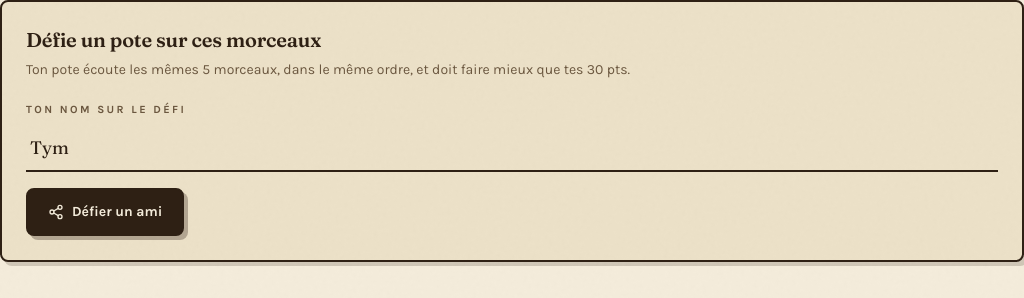
Test: ChallengeInvite › clic sur Copier encore refuse : on le dit et on selectionne le lien
Click the button "Défier un ami" at point(105, 212), box [26,188,184,236]
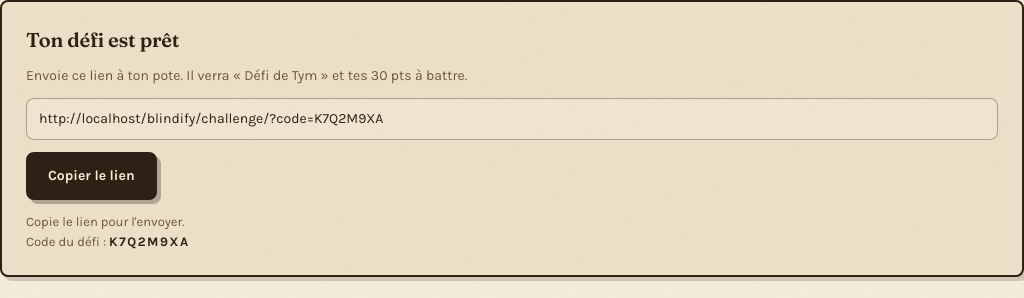
Click the button "Copier le lien" at point(91, 176), box [26,152,157,200]
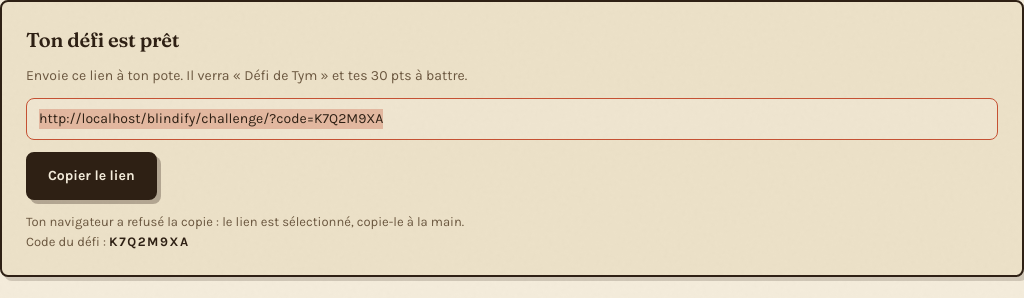
Result: the button "Copier le lien" is shown at [26,152,157,200]
Result: the text "copie-le à la main" is shown at [26,214,464,229]
